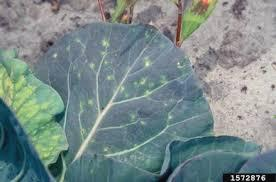Bok-Choy-Diseased: (24, 22, 202, 182)
